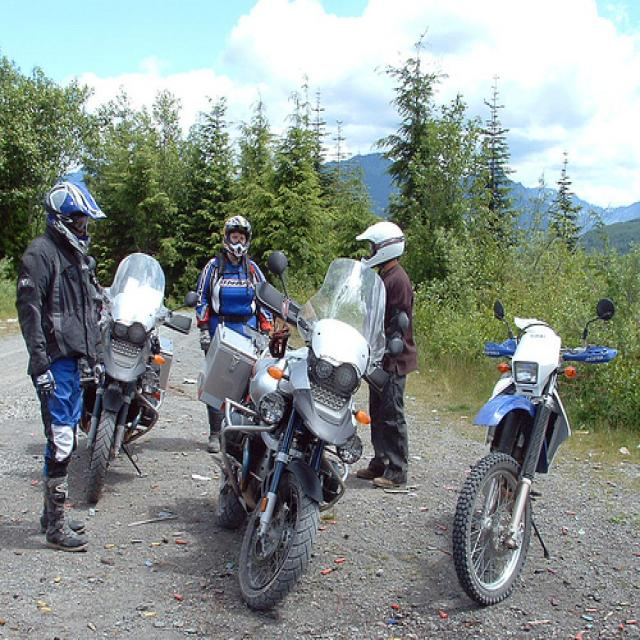motor: (202, 257, 404, 621), (452, 298, 620, 607), (77, 251, 198, 504)
